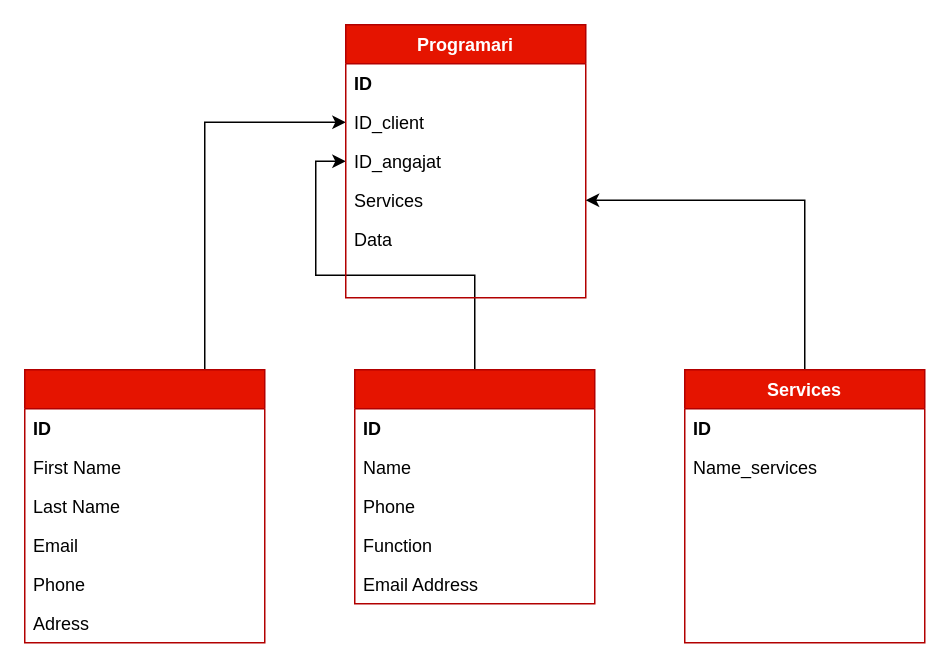
Image size: 950x668. Some labels were removed from this diagram. The shapes that lost their labels are listed below. From the top down, each one's box as (x1, y1, x2, y2) in pixels, then its label:
(23, 368, 265, 643): Client
(353, 368, 595, 604): Angajat
